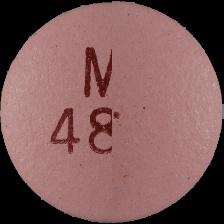53808-0496: (0, 0, 224, 224)
